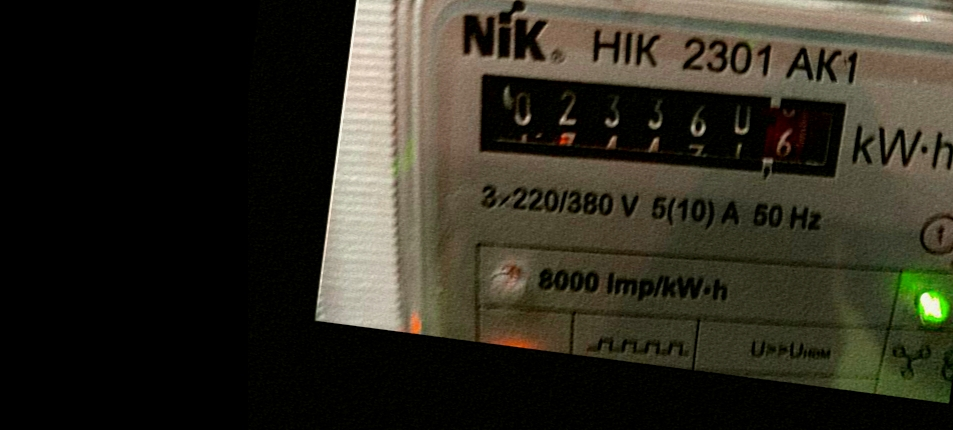0: (510, 85, 540, 130), (730, 99, 758, 138)
2: (554, 85, 585, 128)
3: (643, 92, 670, 133), (601, 89, 627, 131)
6: (685, 98, 716, 142), (775, 123, 800, 162)
screen: (451, 39, 864, 208)
